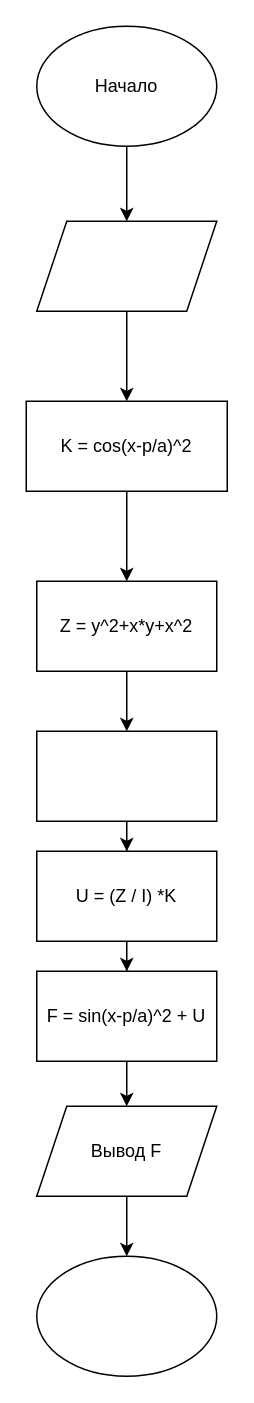
This 254x1403 diagram has some shape labels left out. The centre of each missing label's shape, as x and y in pixels:
I = a^2+b^2: (x=126, y=775)
Ввод a,b,x,y: (x=126, y=265)
Конец: (x=126, y=1315)
